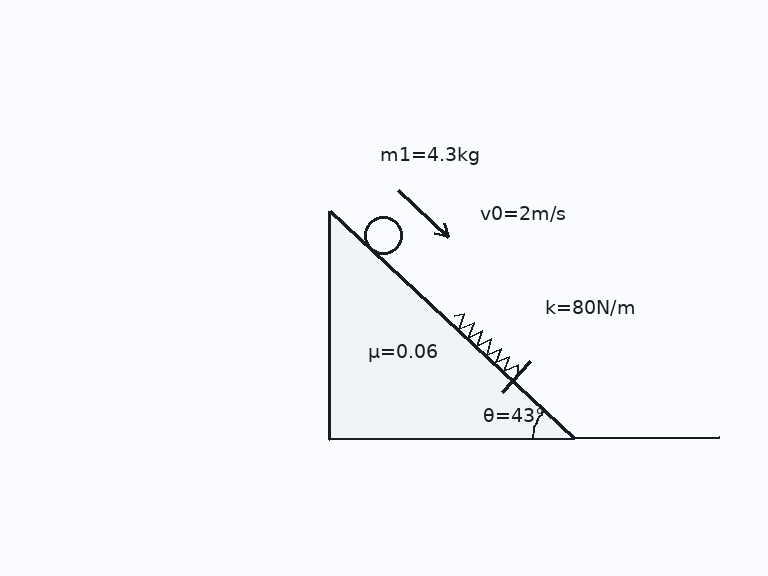ball: (362, 214, 404, 256)
ramp: (327, 208, 575, 440)
spring: (453, 312, 520, 376)
